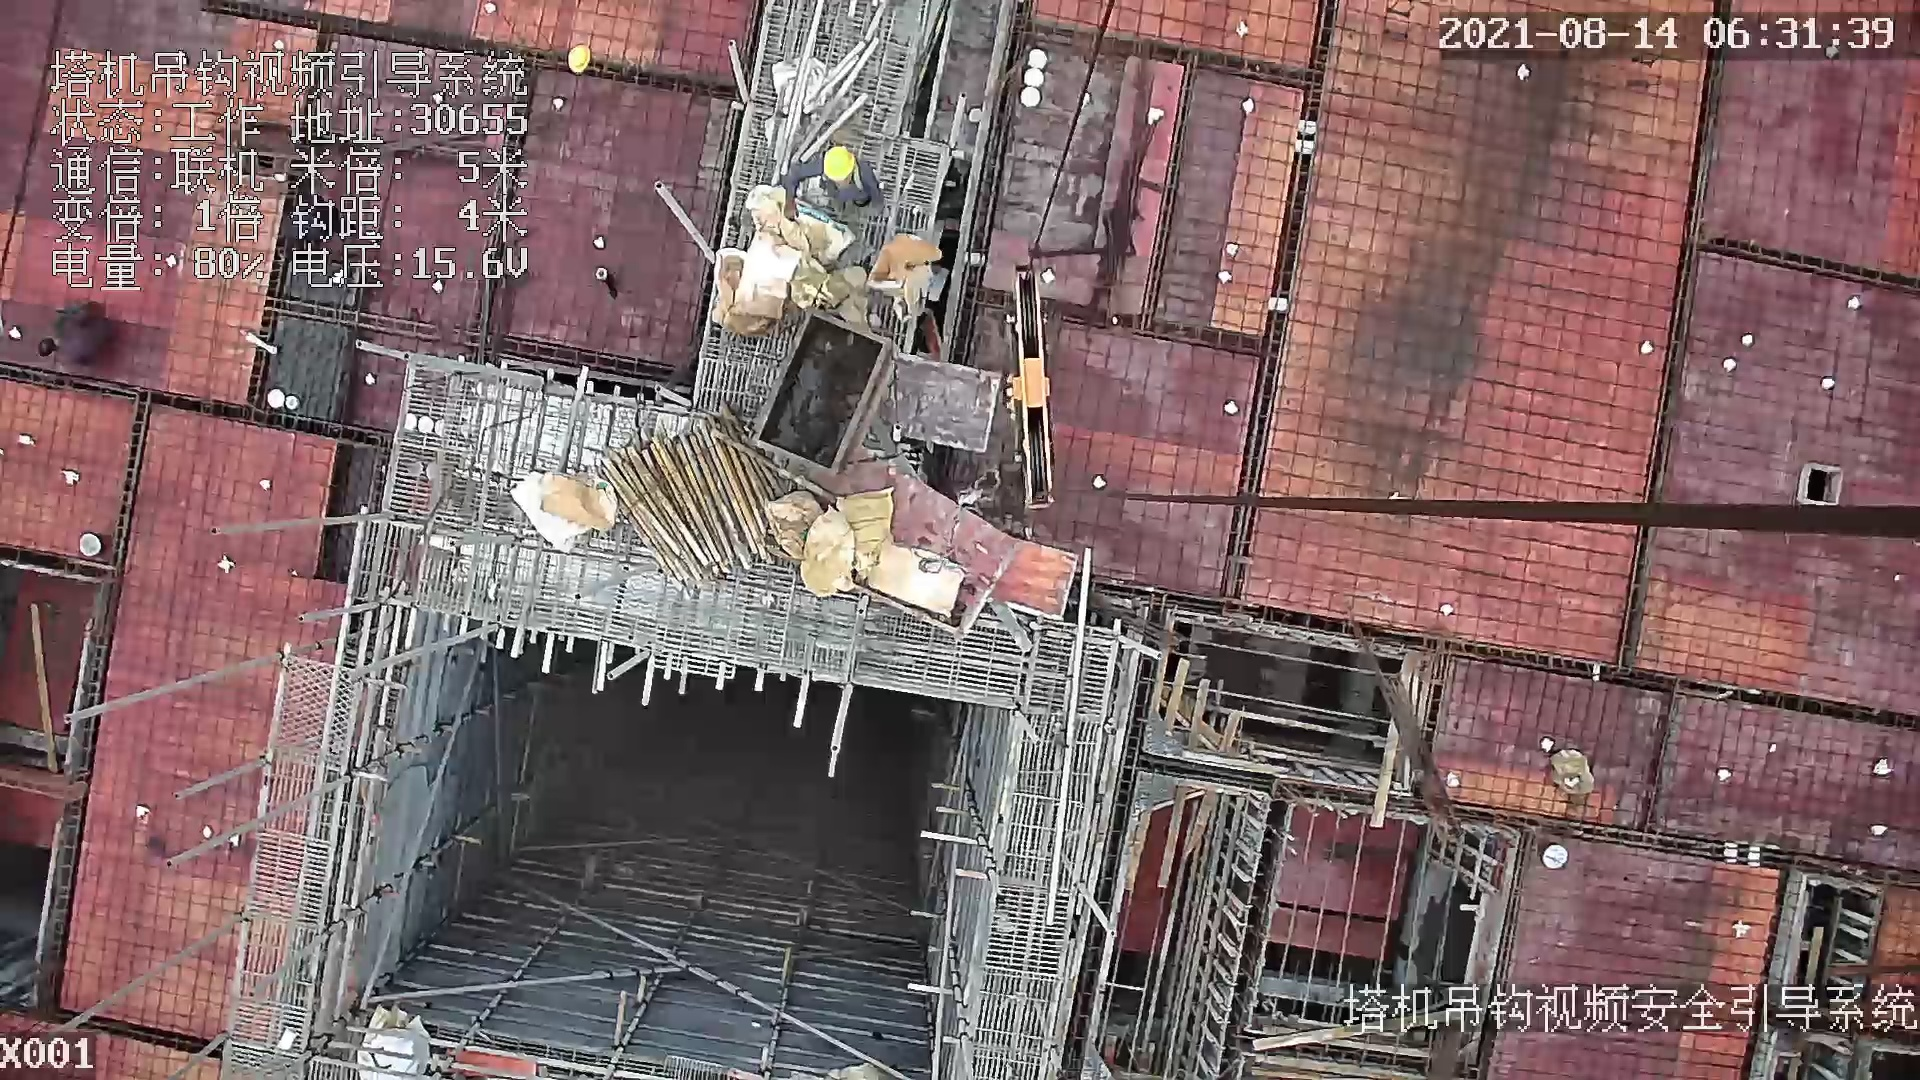helmet: (824, 150, 862, 189), (567, 42, 597, 77)
hook: (992, 260, 1060, 506)
hopper: (768, 313, 892, 474)
person: (770, 144, 897, 221), (35, 305, 135, 383)
scaffold: (601, 424, 795, 586)
